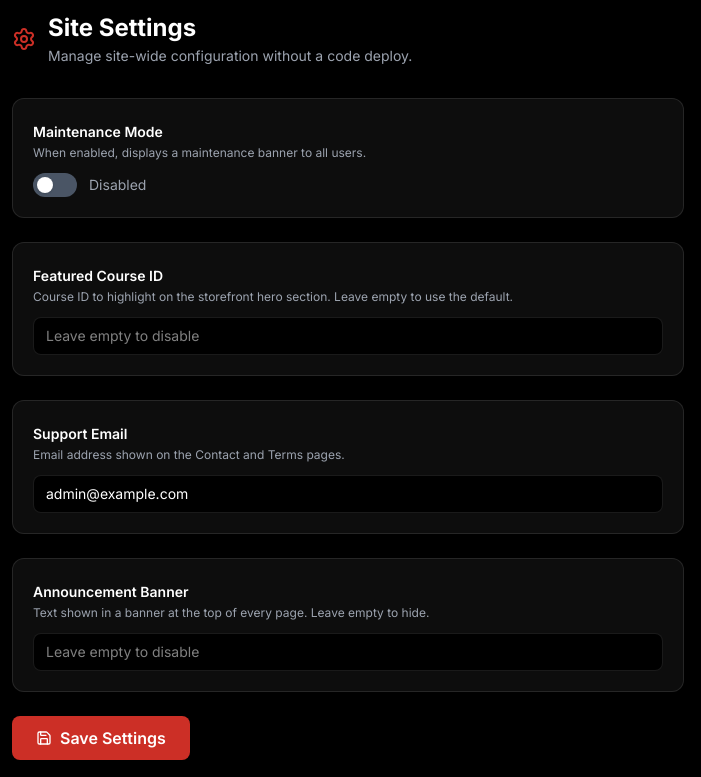
Test case: SettingsPage › maintenance mode toggle switches between Enabled and Disabled
Expected: the text "Maintenance Mode" is shown, [33,123,163,140]
Expected: the text "Disabled" is shown, [89,175,146,195]
Toggle it
Click the switch at (55, 185), box [33,173,77,197]
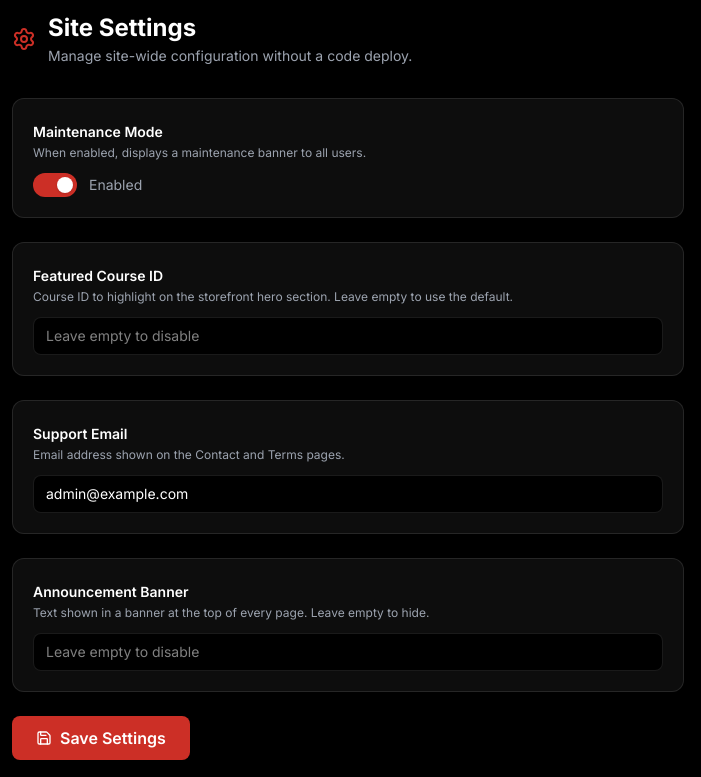
Now the text "Enabled" is shown, box [89,175,142,195]
